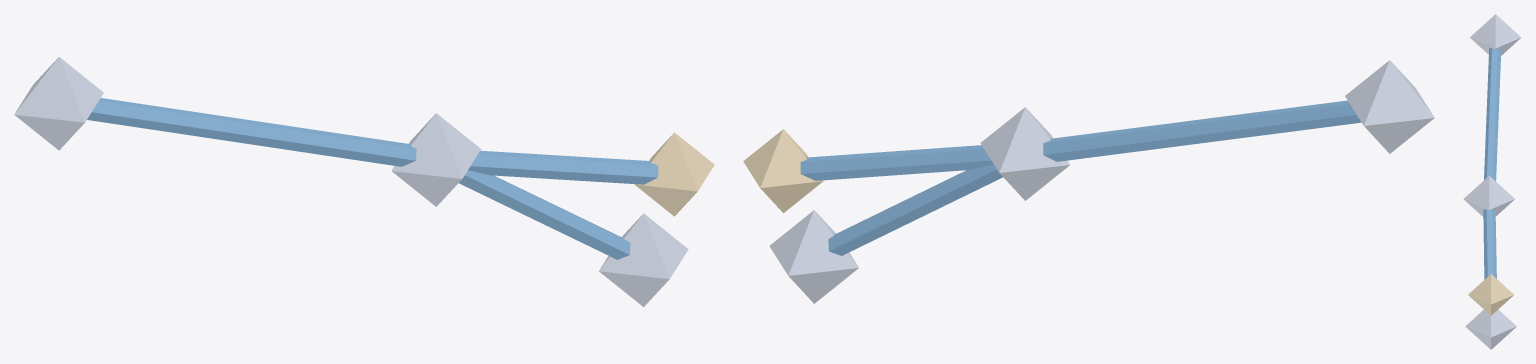
Rendered from constellation-sge.glb.
The picture shows the model from 3 angles, left to right: view 1: azimuth 30°, elevation 25°; view 2: azimuth 150°, elevation 25°; view 3: azimuth 270°, elevation 25°; orthographic projection. The views are drawn at different scales.
Size of the model in its own units: 0.5263 by 0.281 by 0.0764.
